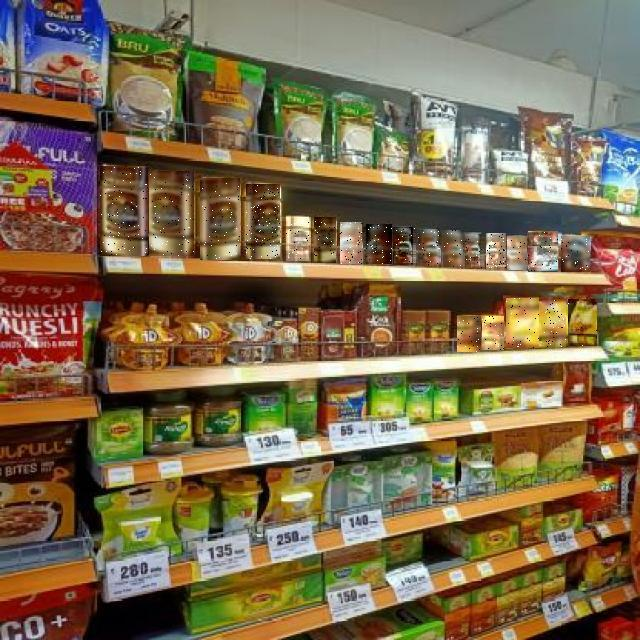Coffee: (101, 166, 149, 256), (149, 172, 194, 258), (200, 178, 240, 260), (246, 184, 280, 259), (506, 298, 539, 348), (568, 299, 597, 346), (528, 231, 558, 272), (542, 298, 566, 347), (561, 236, 590, 272), (366, 224, 392, 264), (286, 216, 309, 261), (315, 217, 337, 263), (341, 222, 363, 264), (457, 316, 481, 352), (394, 227, 416, 265), (418, 229, 440, 266), (482, 316, 504, 350), (443, 230, 463, 267), (486, 234, 506, 270), (507, 236, 527, 270), (466, 235, 484, 269)
